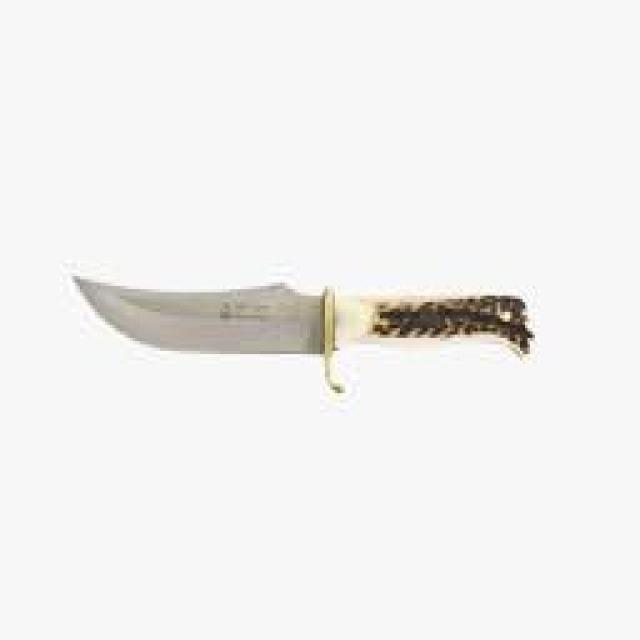knife: (67, 270, 548, 396)
